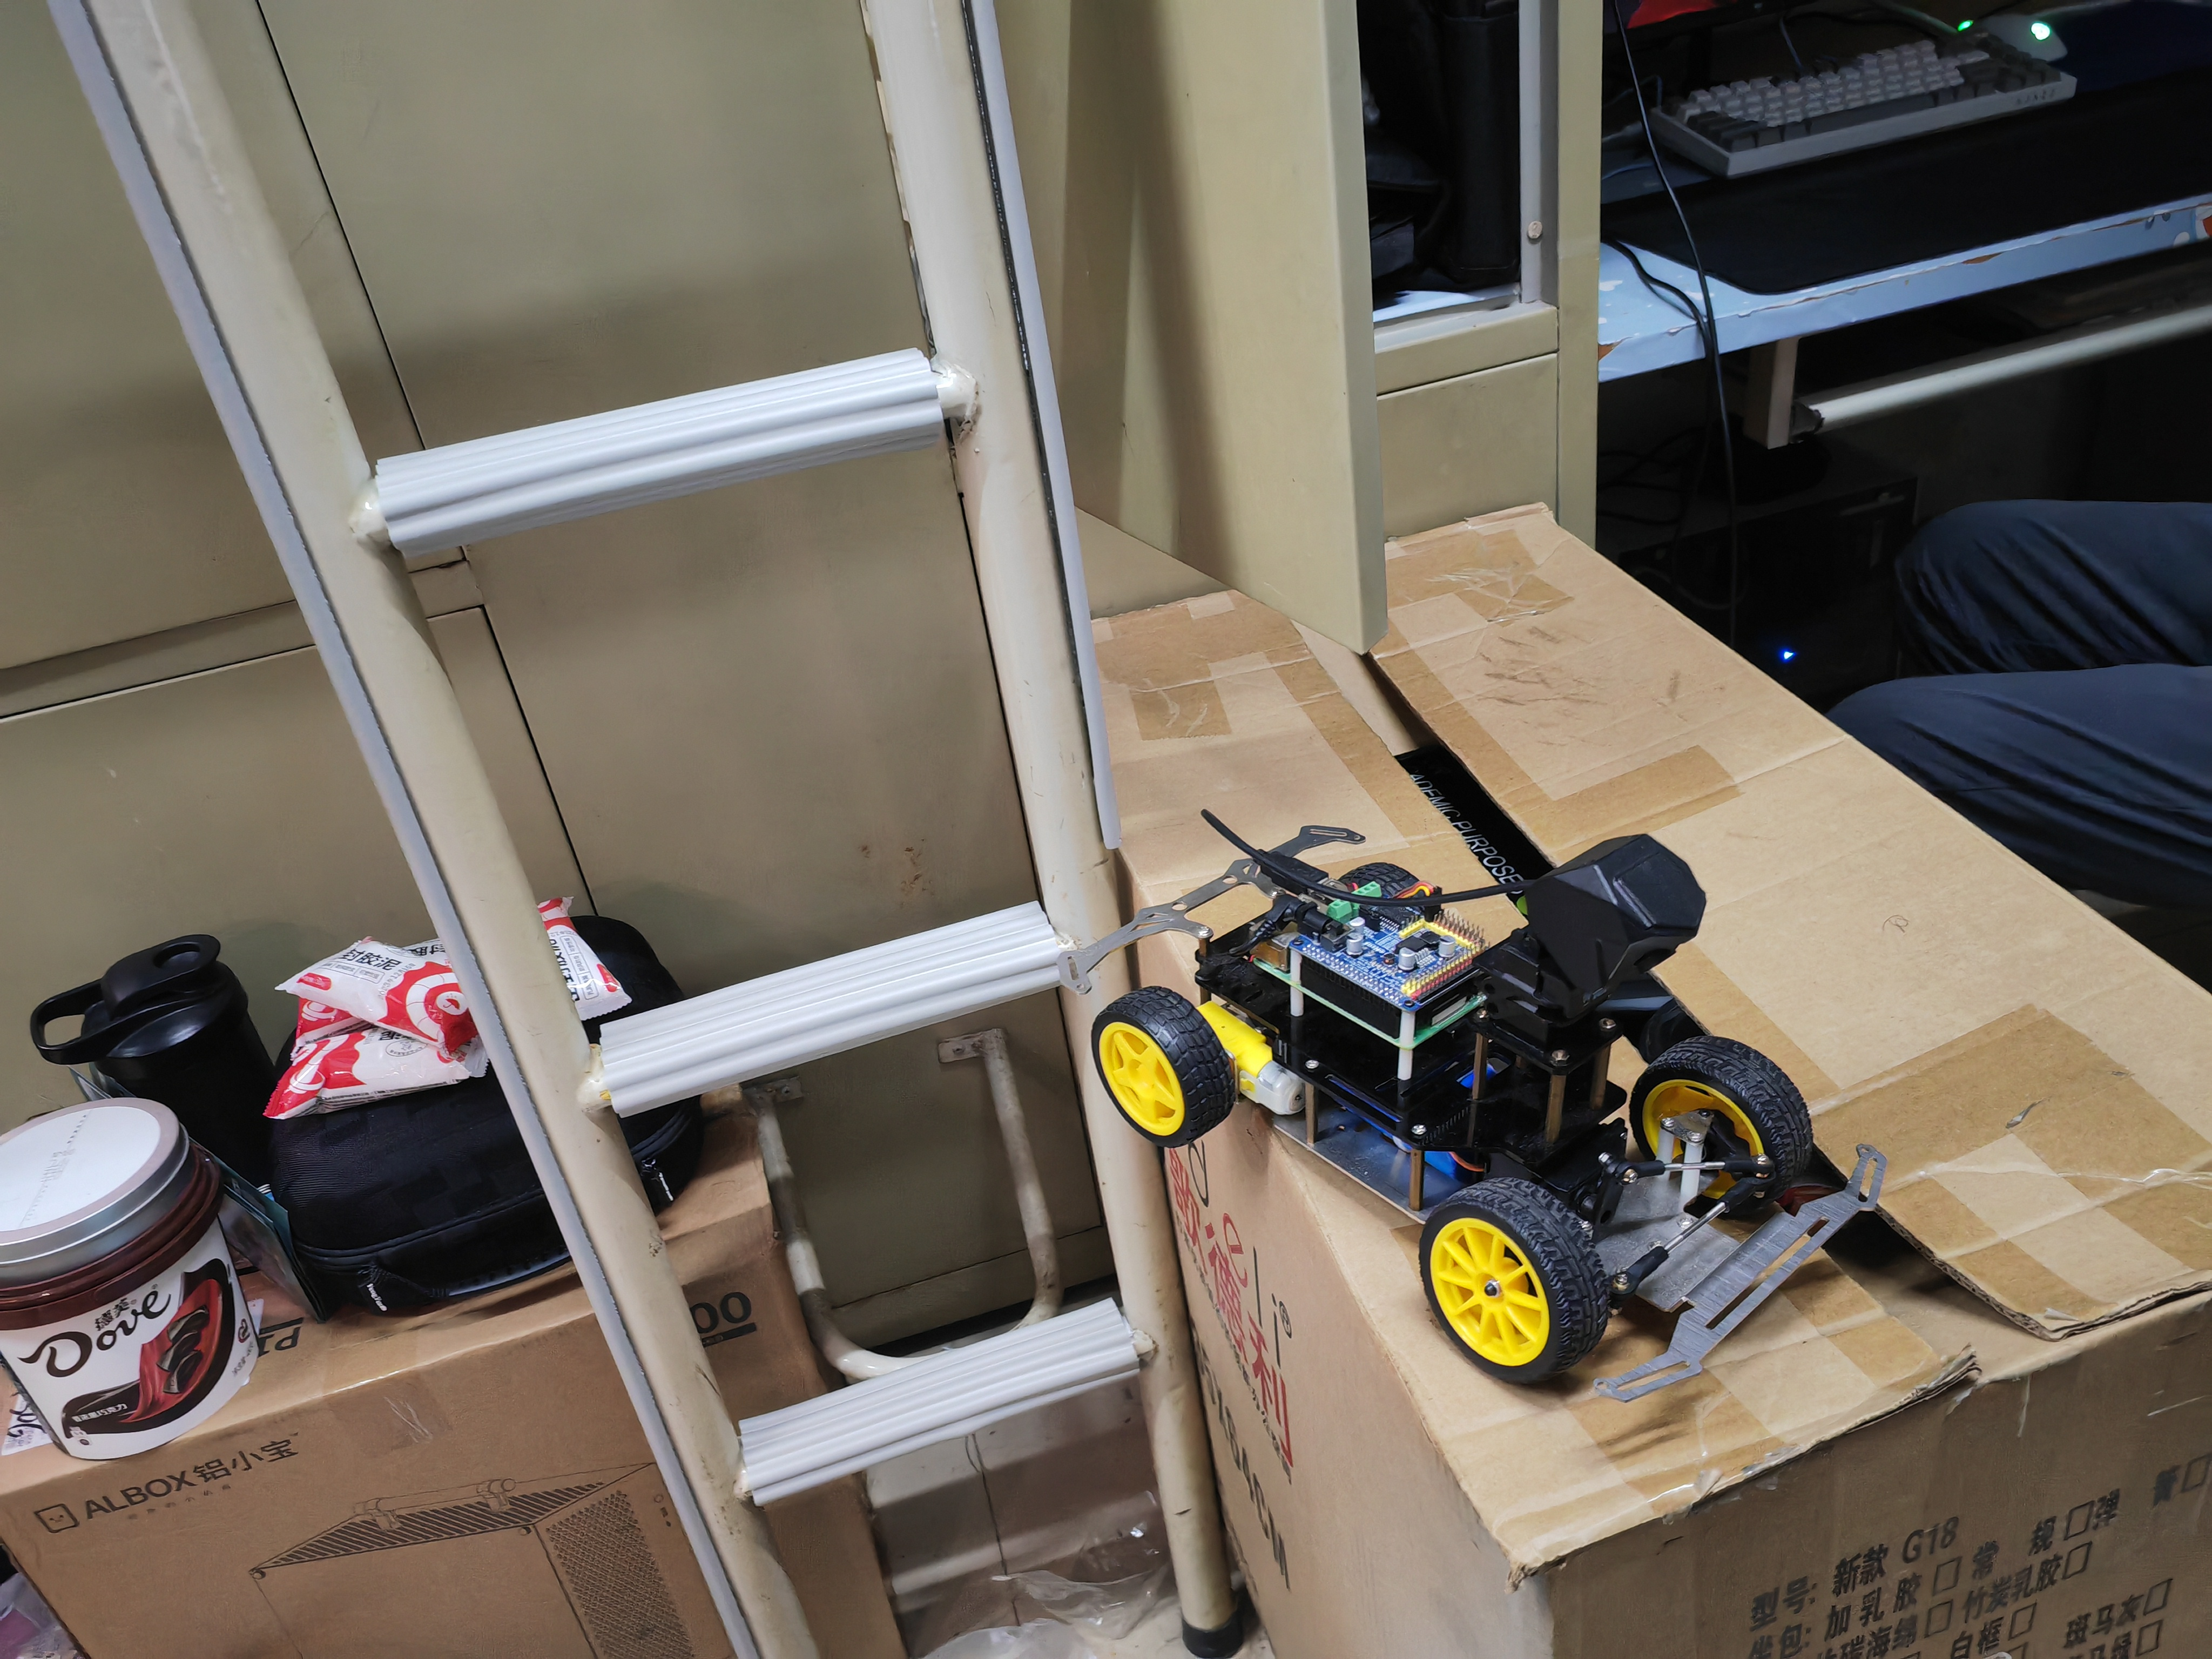car: (1085, 800, 1843, 1396)
